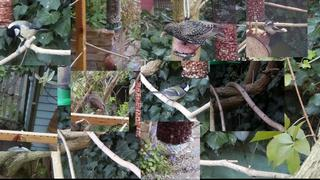great tit: (6, 20, 51, 54), (148, 81, 190, 106)
long tailed tit: (262, 20, 288, 38)
starling: (161, 20, 226, 45), (89, 91, 109, 116)
